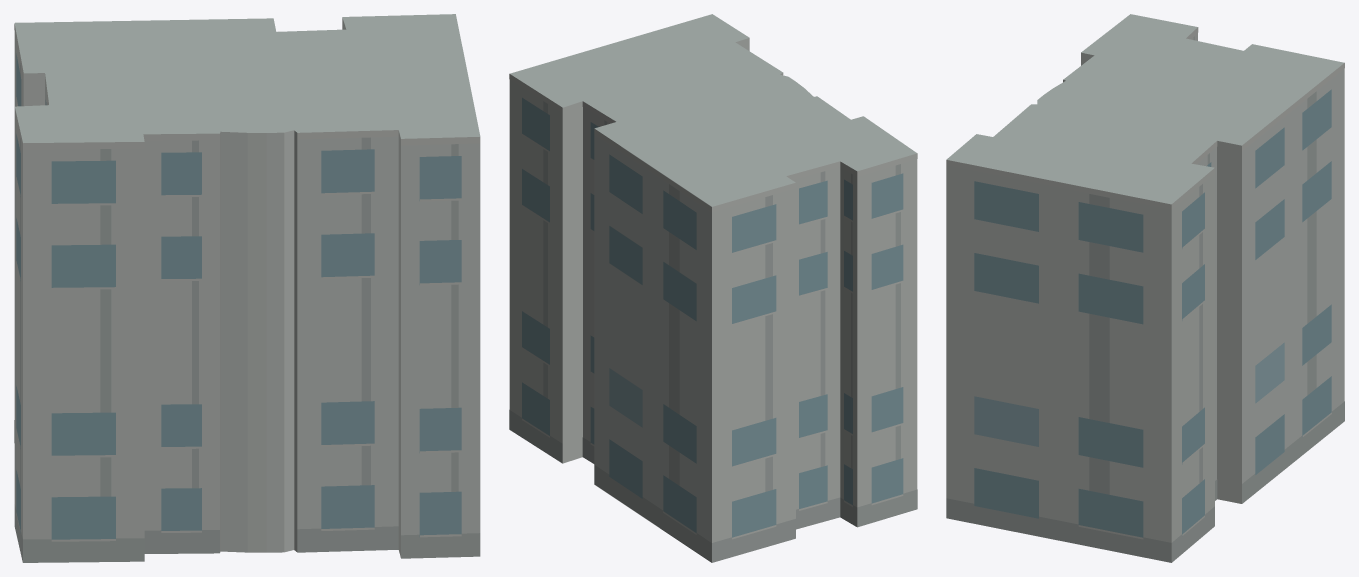
Rendered from survey-upis-32934814.glb.
3 renders of one model, left to right at view 1: azimuth 30°, elevation 25°; view 2: azimuth 150°, elevation 25°; view 3: azimuth 270°, elevation 25°, orthographic. The views are drawn at different scales.
Parts seen in each view (by area): view 1: survey-upis-32934814.tmp; view 2: survey-upis-32934814.tmp; view 3: survey-upis-32934814.tmp.
Boxes of the visible parts, x1,y1,x2,y2 form: survey-upis-32934814.tmp: (14, 14, 480, 562); survey-upis-32934814.tmp: (509, 14, 917, 562); survey-upis-32934814.tmp: (946, 14, 1344, 562).
Size of the model in its own units: 17.38 by 15.25 by 15.37.
